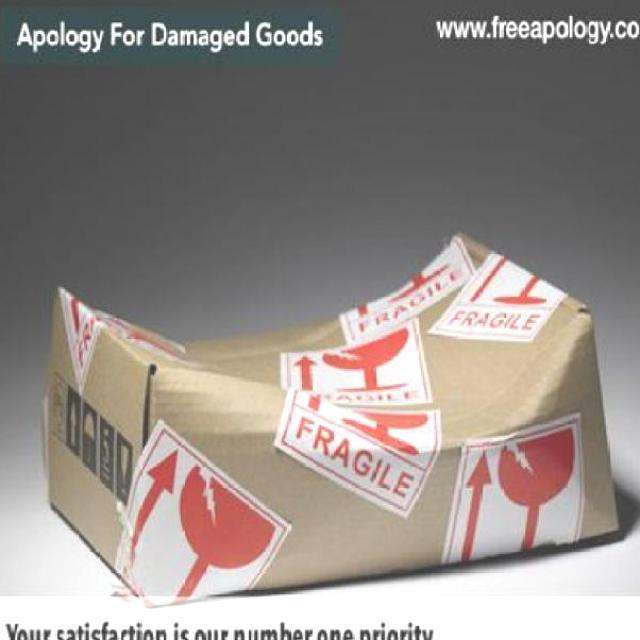box: (43, 236, 618, 604)
crushed: (308, 380, 558, 468)
